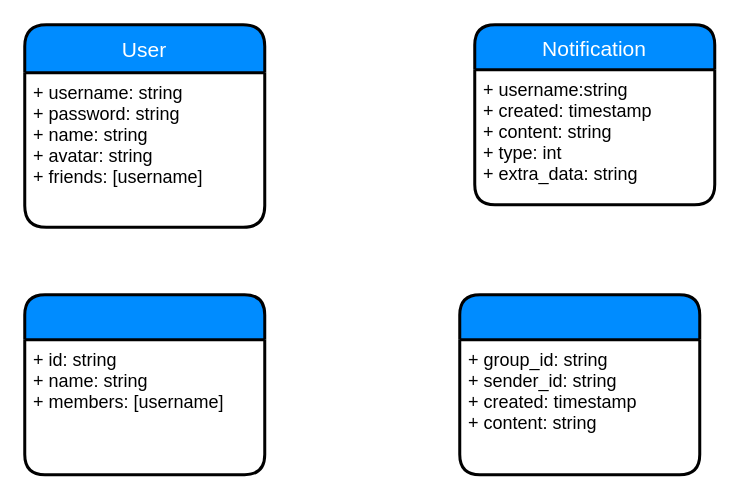
The diagram is 740 pixels wide and 500 high, and some of its shapes have lost their labels. Each missing label, with the box of its shape:
Group: (22, 292, 266, 476)
Message: (458, 292, 700, 476)
